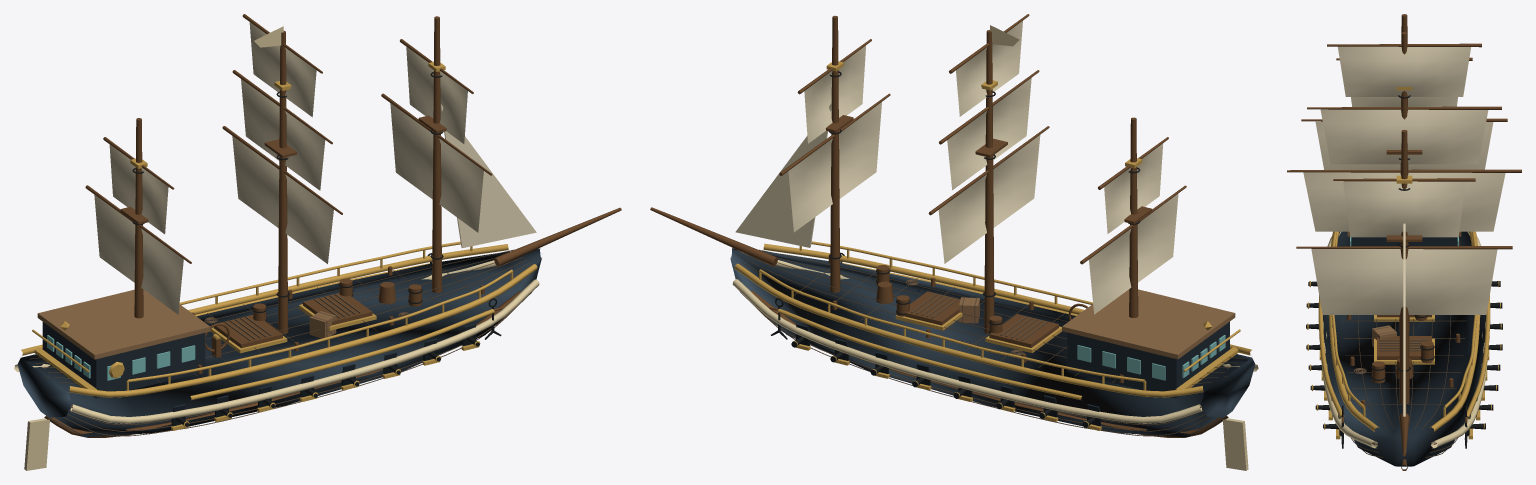
File: frigate.glb
3 views of the same model, side by side, from view 1: azimuth 30°, elevation 25°; view 2: azimuth 150°, elevation 25°; view 3: azimuth 270°, elevation 25° (orthographic).
Visible parts, largest first — view 1: Mesh_Batch_0, Mesh_Batch_4, Mesh_Batch_6, Mesh_Batch_15, Mesh_Batch_5, SailSurface_5, SailSurface_2, Mesh_Batch_13, SailSurface_0, SailSurface_3, SailSurface_7, Mesh_Batch_12 (+9 smaller); view 2: Mesh_Batch_0, Mesh_Batch_4, Mesh_Batch_6, Mesh_Batch_15, Mesh_Batch_5, SailSurface_5, SailSurface_2, Mesh_Batch_13, SailSurface_0, SailSurface_3, Mesh_Batch_12, SailSurface_7 (+9 smaller); view 3: Mesh_Batch_0, SailSurface_5, SailSurface_3, SailSurface_6, SailSurface_4, SailSurface_2, Mesh_Batch_4, Mesh_Batch_6, Mesh_Batch_33, SailSurface_0, Mesh_Batch_20, Mesh_Batch_12 (+7 smaller).
Boxes of the visible parts, x1,y1,x2,y2 form: Mesh_Batch_0: [17, 248, 541, 437]; Mesh_Batch_4: [21, 61, 537, 430]; Mesh_Batch_6: [44, 16, 621, 437]; Mesh_Batch_15: [37, 289, 336, 359]; Mesh_Batch_5: [14, 26, 539, 470]; SailSurface_5: [390, 103, 483, 232]; SailSurface_2: [232, 136, 333, 263]; Mesh_Batch_13: [42, 279, 475, 411]; SailSurface_0: [94, 195, 183, 314]; SailSurface_3: [241, 79, 325, 190]; SailSurface_7: [440, 104, 536, 248]; Mesh_Batch_12: [29, 250, 531, 436]; Mesh_Batch_0: [730, 248, 1255, 437]; Mesh_Batch_4: [734, 61, 1251, 430]; Mesh_Batch_6: [650, 15, 1228, 437]; Mesh_Batch_15: [959, 289, 1235, 359]; Mesh_Batch_5: [732, 25, 1258, 470]; SailSurface_5: [788, 102, 881, 232]; SailSurface_2: [938, 135, 1040, 263]; Mesh_Batch_13: [796, 279, 1229, 411]; SailSurface_0: [1089, 193, 1178, 314]; SailSurface_3: [947, 78, 1031, 190]; Mesh_Batch_12: [740, 249, 1243, 436]; SailSurface_7: [735, 103, 831, 247]; Mesh_Batch_0: [1323, 231, 1485, 466]; SailSurface_5: [1311, 249, 1497, 314]; SailSurface_3: [1320, 109, 1488, 164]; SailSurface_6: [1343, 181, 1465, 237]; SailSurface_4: [1338, 46, 1470, 96]; SailSurface_2: [1303, 172, 1505, 231]; Mesh_Batch_4: [1307, 87, 1501, 439]; Mesh_Batch_6: [1341, 14, 1467, 470]; Mesh_Batch_33: [1287, 43, 1521, 172]; SailSurface_0: [1315, 121, 1493, 169]; Mesh_Batch_20: [1306, 95, 1502, 448]; Mesh_Batch_12: [1342, 315, 1466, 457].
Size of the model in its own units: 14.94 by 9.19 by 5.13.
